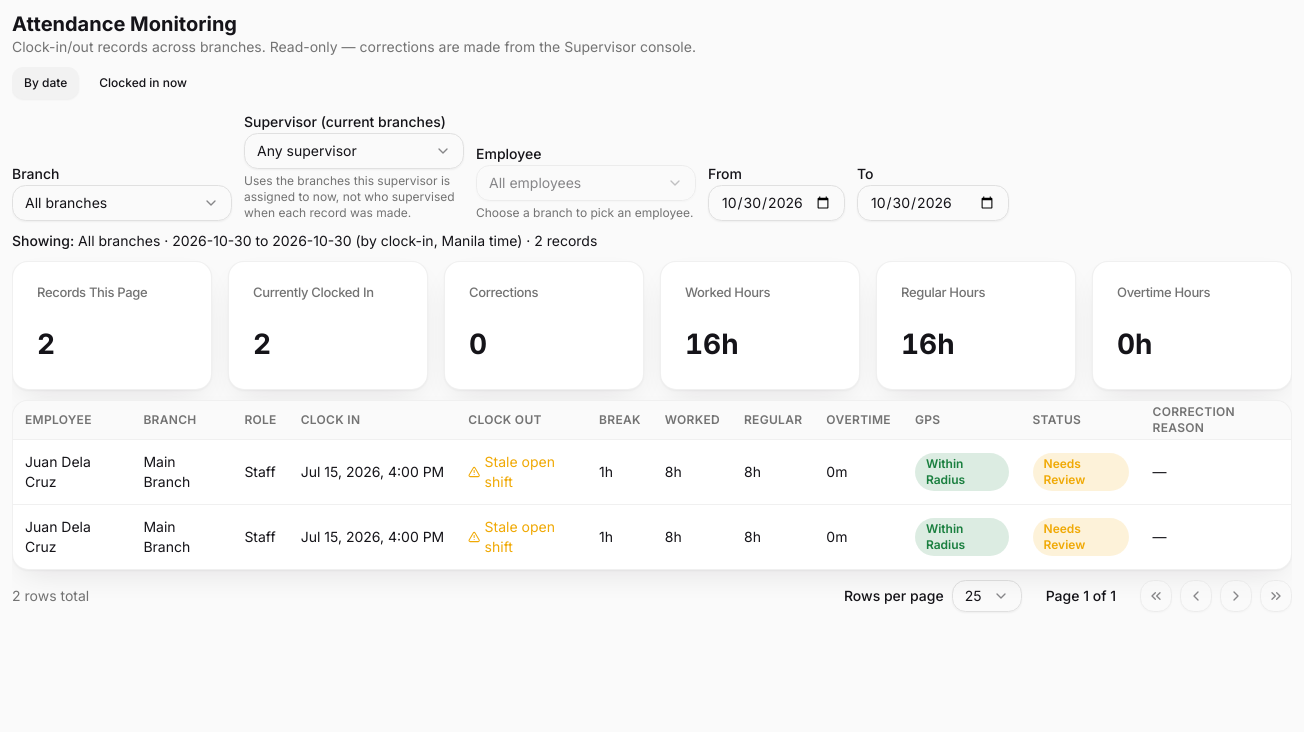
Scenario: AdminAttendancePage › "Clocked in now" asks for open records of any start date and reconciles with the dashboard figure
What coordinates should you click on to do the following:
click the button "Clocked in now"
I would click on:
 (143, 83)
Its box is [87, 67, 199, 99].
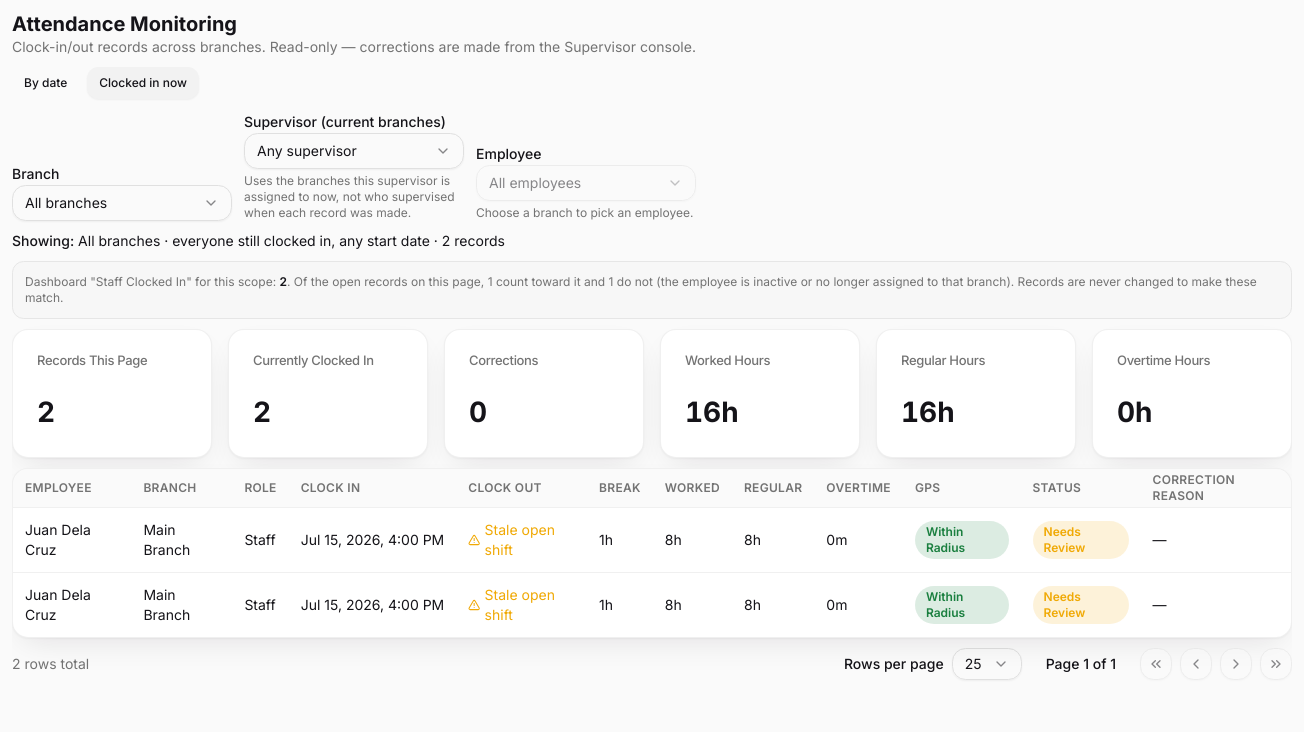
Result: the text "everyone still clocked in, any start date" is shown at [78, 232, 430, 249]
Result: the text "Staff Clocked In\" for this scope" shows "for this scope: 2." at [12, 261, 1292, 319]
Result: the text "Staff Clocked In\" for this scope" shows "1 count toward it and 1 do not" at [12, 261, 1292, 319]
